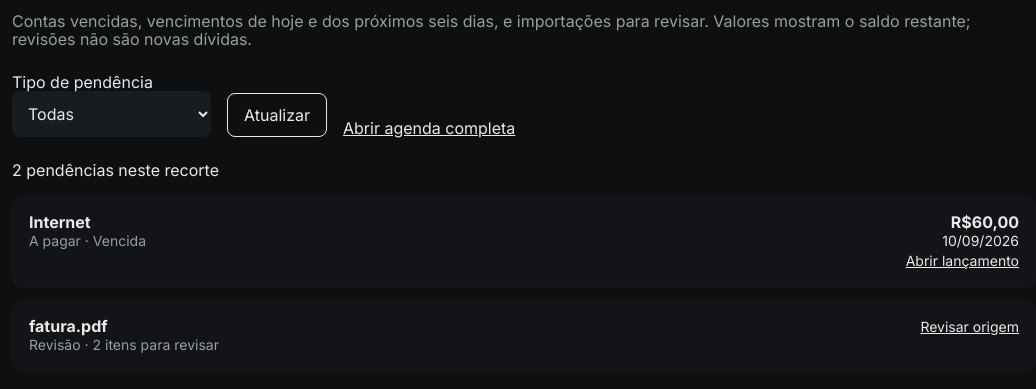
Scenario: abre origem correta e filtra sem somar importação como dívida
Check: the text "R$60,00" is shown, box [951, 212, 1019, 232]
Select "Revisar importações" in the dropdown labelled "Tipo de pendência". click: (112, 114)
box: [12, 91, 211, 137]
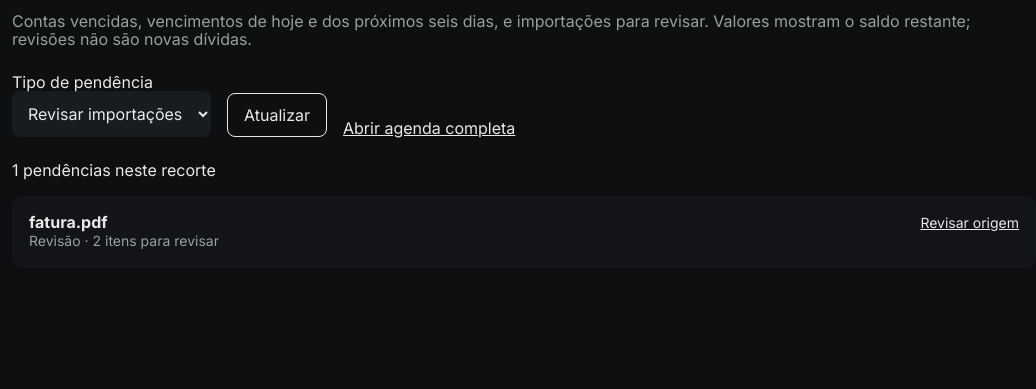
Check: the link "Internet" is gone
